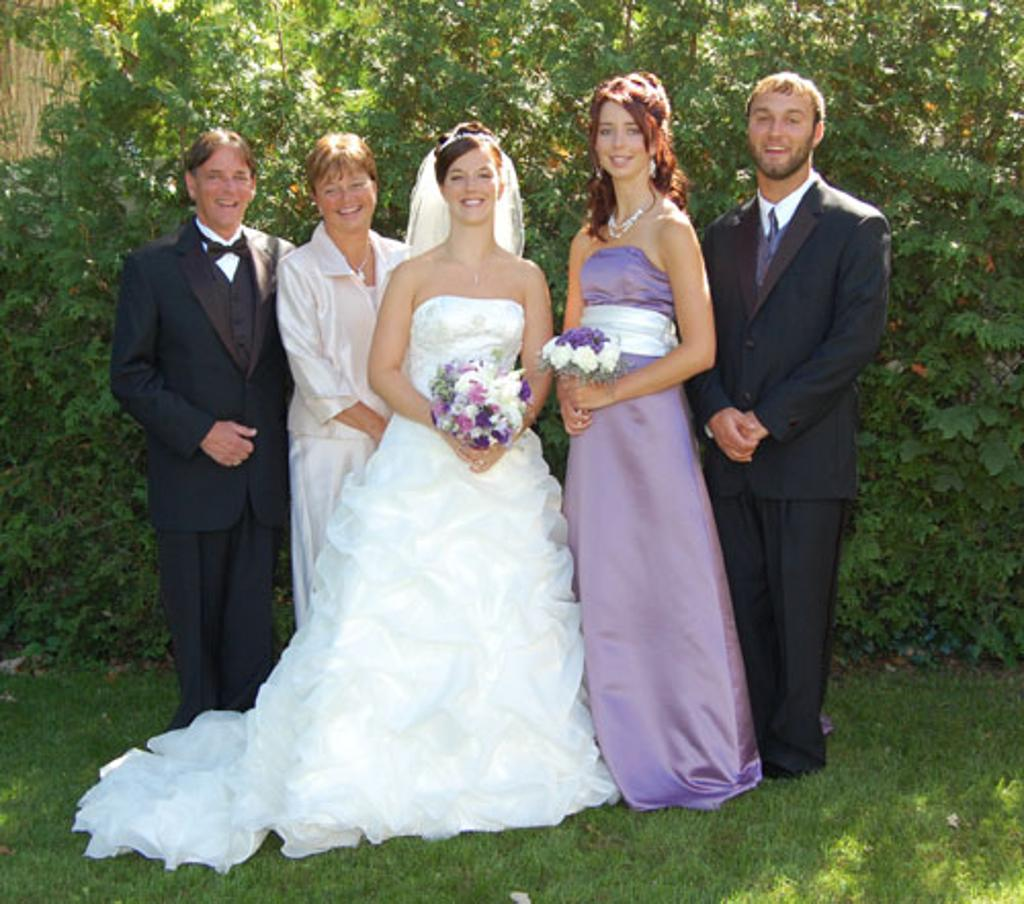face: (748, 84, 810, 174), (314, 158, 382, 234), (596, 88, 648, 176), (190, 154, 250, 230), (442, 146, 496, 226)
